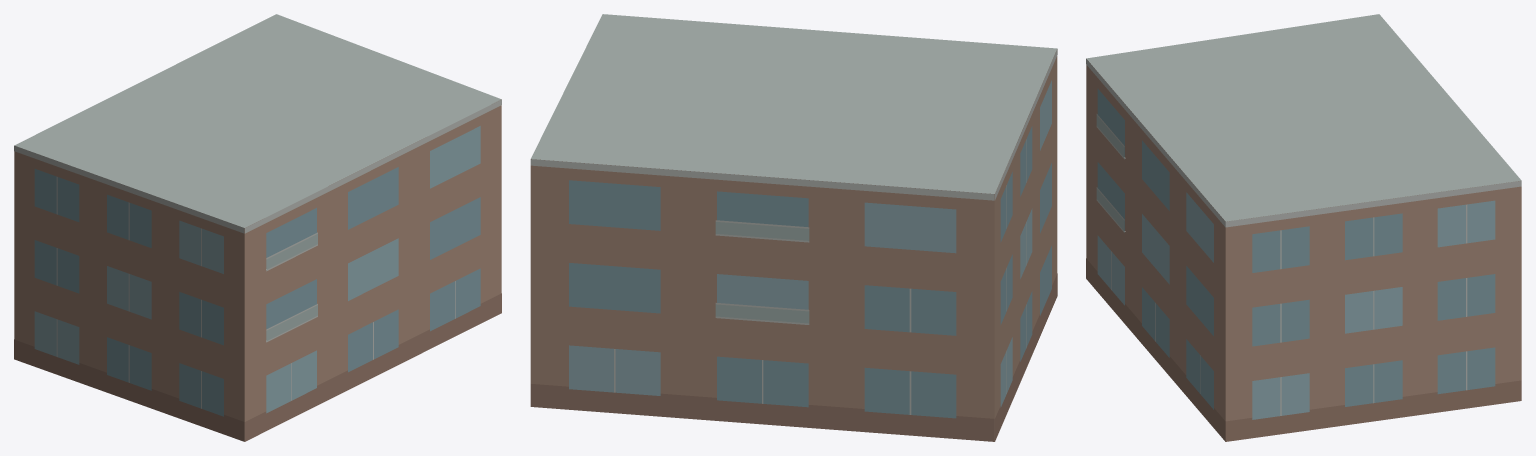
The model's file is survey-upis-32709091.glb.
3 views of the same model, side by side, from view 1: azimuth 30°, elevation 25°; view 2: azimuth 150°, elevation 25°; view 3: azimuth 270°, elevation 25° (orthographic). The views are drawn at different scales.
Parts seen in each view (by area): view 1: survey-upis-32709091.tmp; view 2: survey-upis-32709091.tmp; view 3: survey-upis-32709091.tmp.
Boxes of the visible parts, bbox=[...] form: survey-upis-32709091.tmp: bbox=[14, 14, 501, 441]; survey-upis-32709091.tmp: bbox=[530, 14, 1057, 441]; survey-upis-32709091.tmp: bbox=[1086, 14, 1521, 441].
Bounding box in the file's own units: 18.51 × 9.15 × 16.41.
